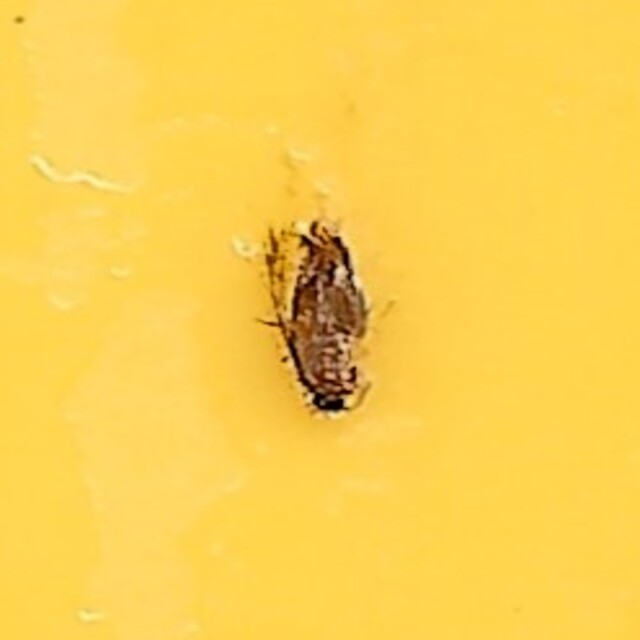Trichoptera: (258, 213, 382, 427)
